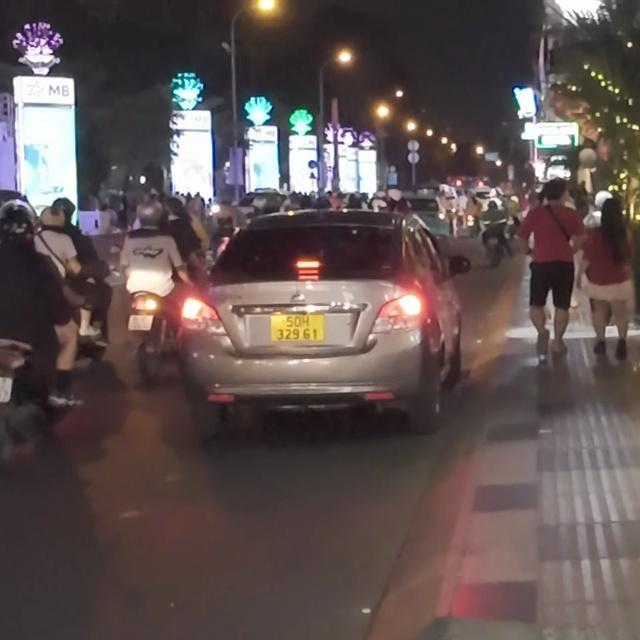car: (180, 206, 468, 441)
motorcycle: (120, 287, 175, 385)
plate: (266, 310, 332, 348), (124, 309, 158, 332)
